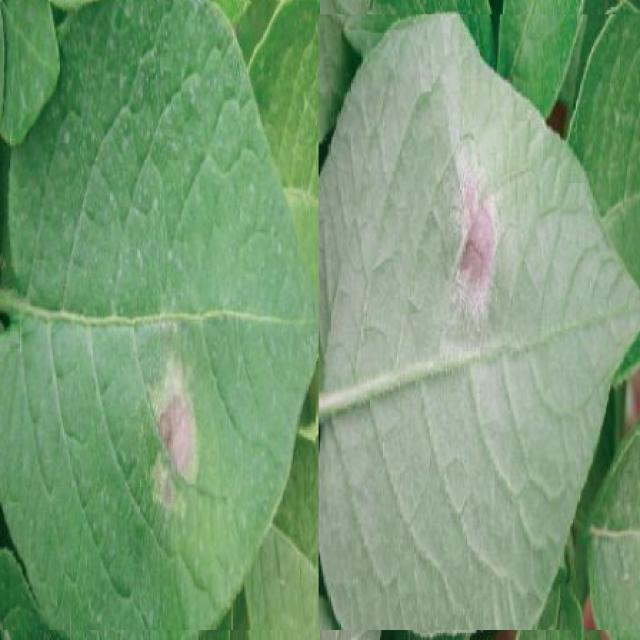Late Blight: (0, 2, 316, 631), (318, 14, 640, 629)
